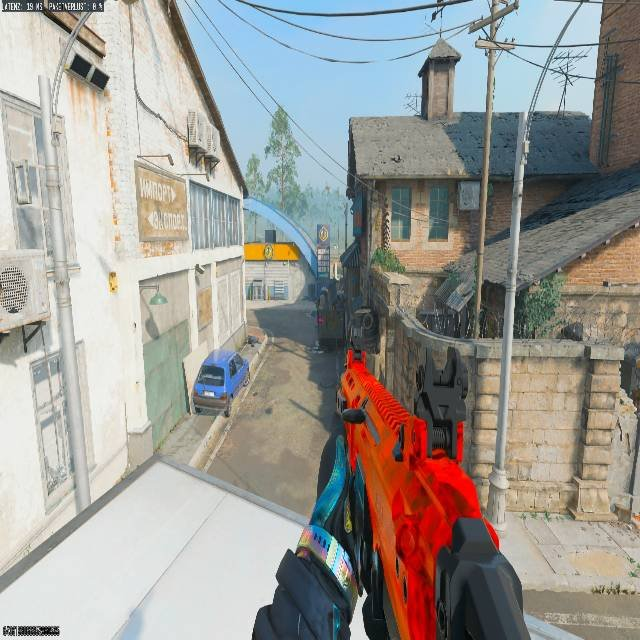player: (187, 312, 329, 501)
